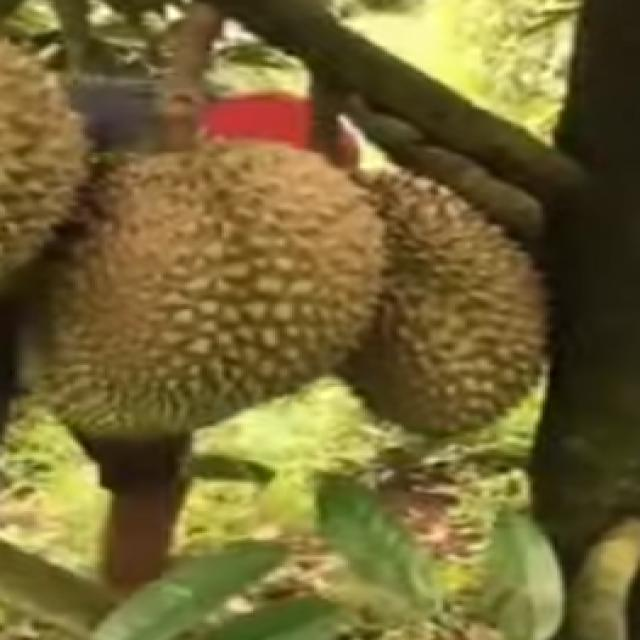mature: (11, 144, 393, 438), (314, 168, 560, 442)
